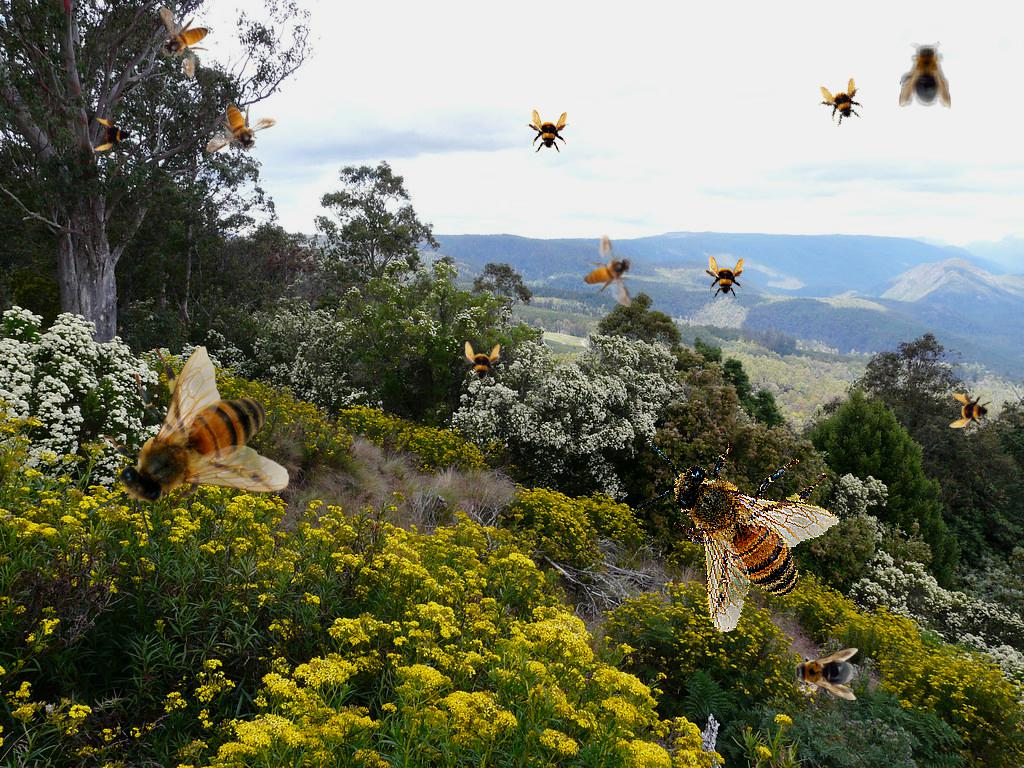Bee: (619, 405, 858, 647), (86, 346, 290, 545), (581, 233, 637, 308), (159, 7, 209, 78), (206, 103, 277, 153), (899, 41, 951, 109), (790, 648, 858, 700), (812, 73, 870, 131), (458, 341, 502, 385), (949, 391, 993, 435), (525, 109, 569, 153), (92, 115, 136, 159), (702, 255, 746, 299)
